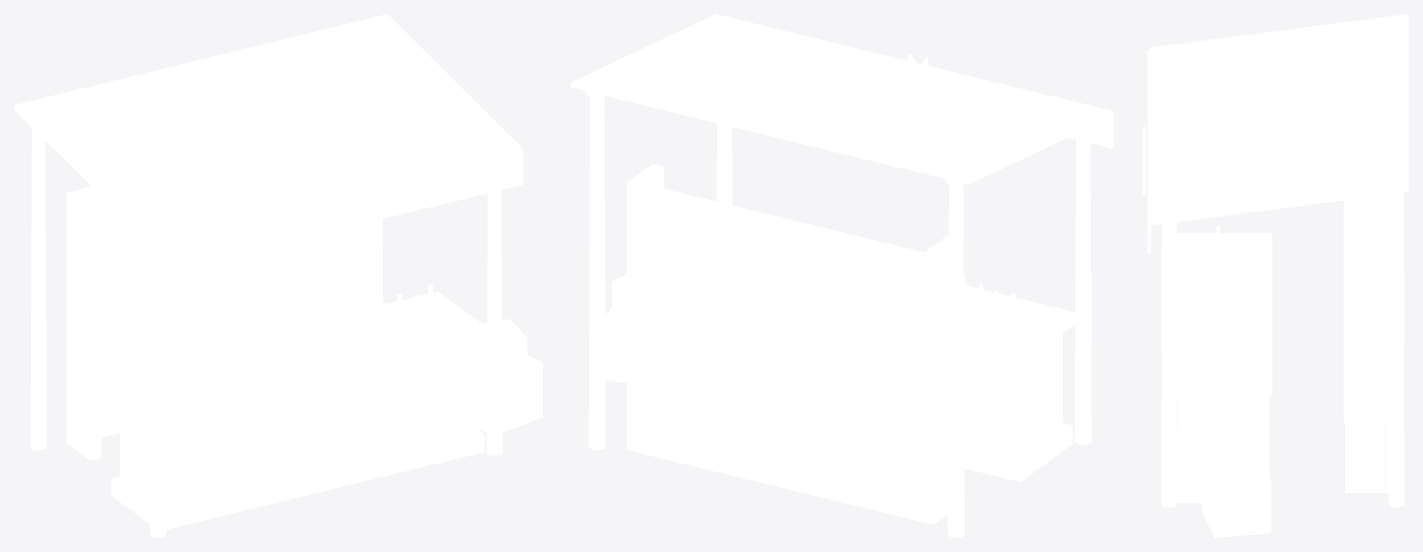
The model's file is aydor_potion_stall.glb.
3 views of the same model, side by side, from view 1: azimuth 30°, elevation 25°; view 2: azimuth 150°, elevation 25°; view 3: azimuth 270°, elevation 25° (orthographic). The views are drawn at different scales.
Visible parts, largest first — view 1: aydor_potion_stall; view 2: aydor_potion_stall; view 3: aydor_potion_stall.
Boxes of the visible parts, x1,y1,x2,y2 form: aydor_potion_stall: (14, 14, 542, 537); aydor_potion_stall: (571, 14, 1113, 537); aydor_potion_stall: (1142, 14, 1408, 537).
Size of the model in its own units: 3.55 by 2.77 by 2.02.
Materials: 1 (1 with a texture image).
